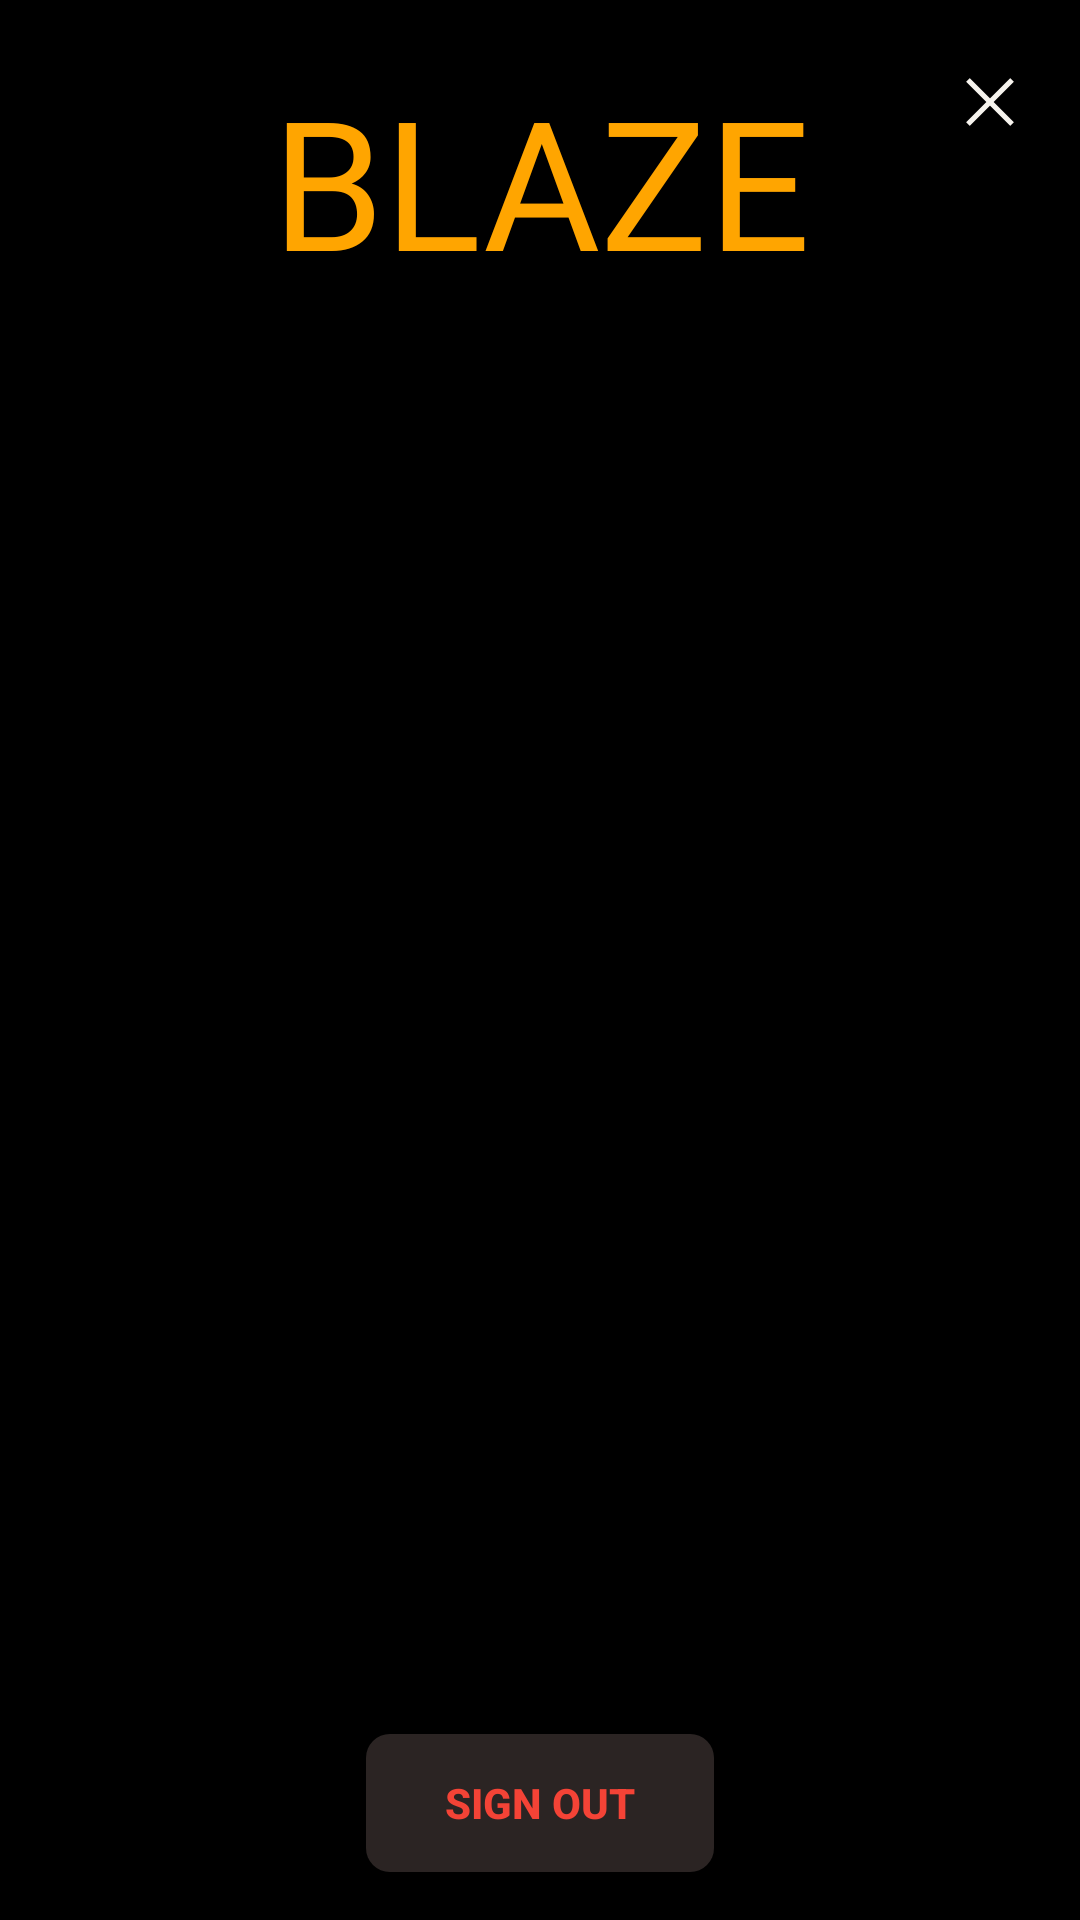

Icon click points for this 1080×1920 phone screenshot, format [x,y]:
close: [990,102]
